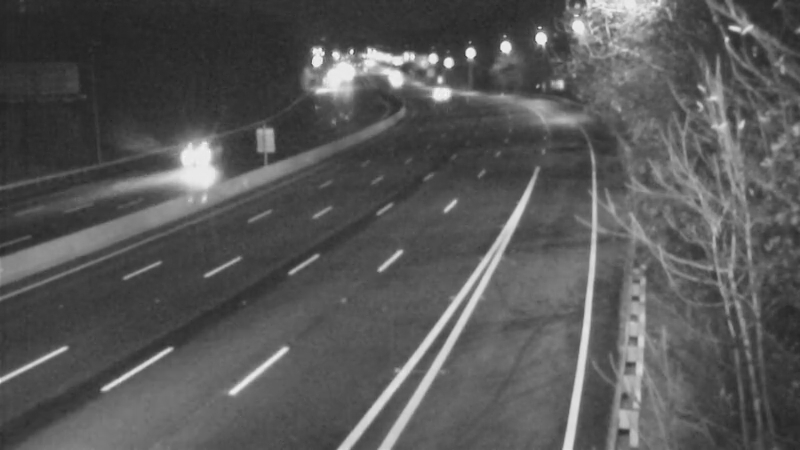vehicle: (155, 120, 235, 200), (412, 64, 462, 114)
